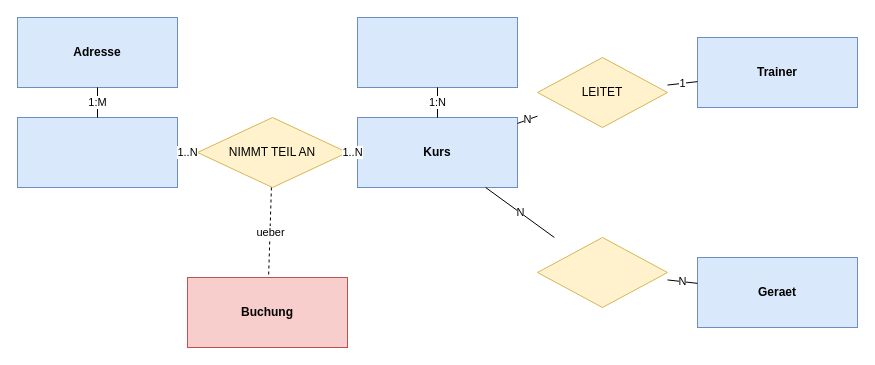
The diagram is 875 pixels wide and 365 high, and some of its shapes have lost their labels. The shapes that lost their labels are listed below. From the top down, each one's box as (x1, y1, x2, y2) in pixels, then its label:
(356, 16, 518, 88): Stundenplan
(16, 116, 178, 188): Mitglied
(536, 236, 668, 308): VERWENDET
